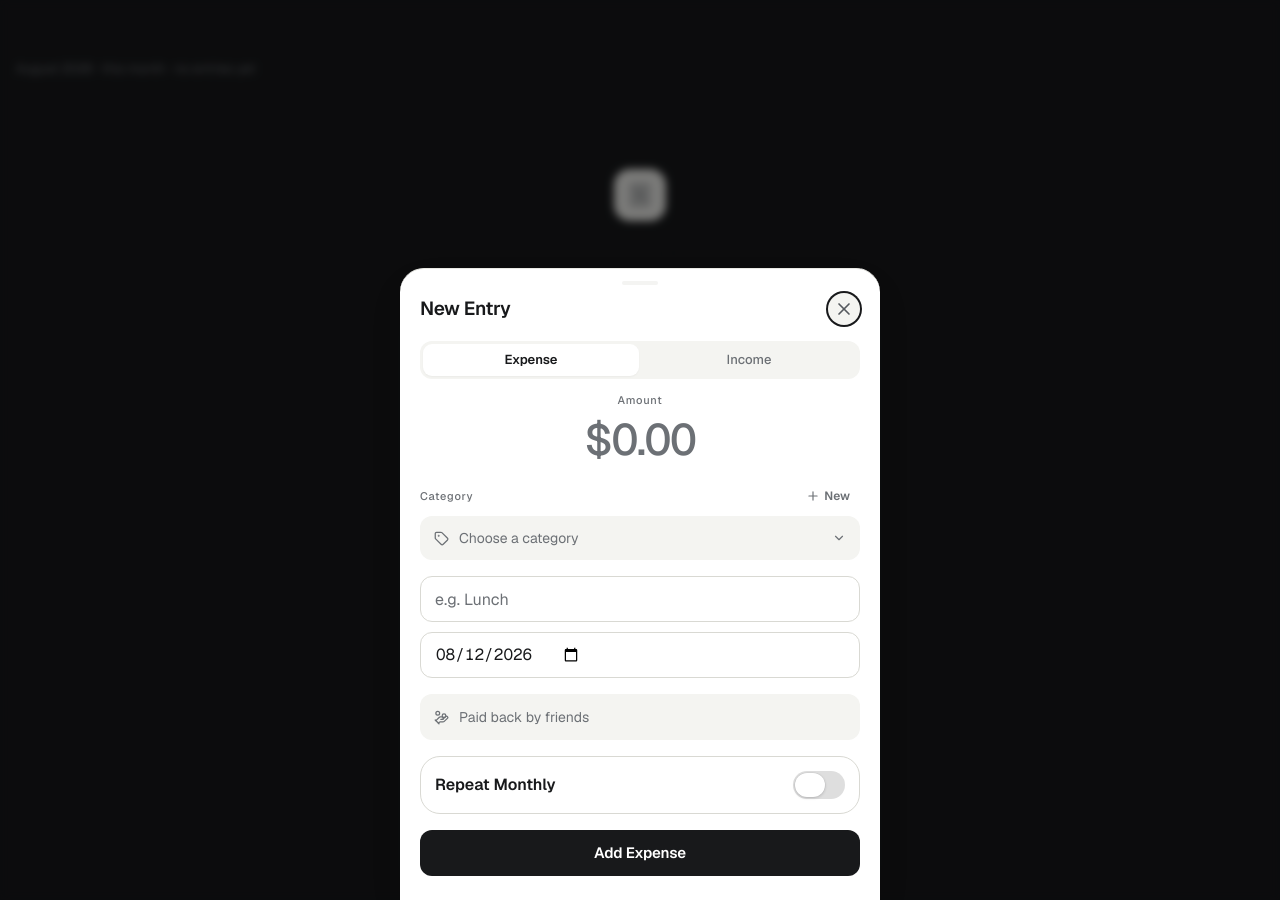
Test: adding a category › when there are more categories than the grid can hold › collapses to a field and a list at thirteen
Expected: the button "Category 13" is not shown
Click the button "Choose a category" at (519, 538), box [420, 516, 860, 560]
(page scrolled)
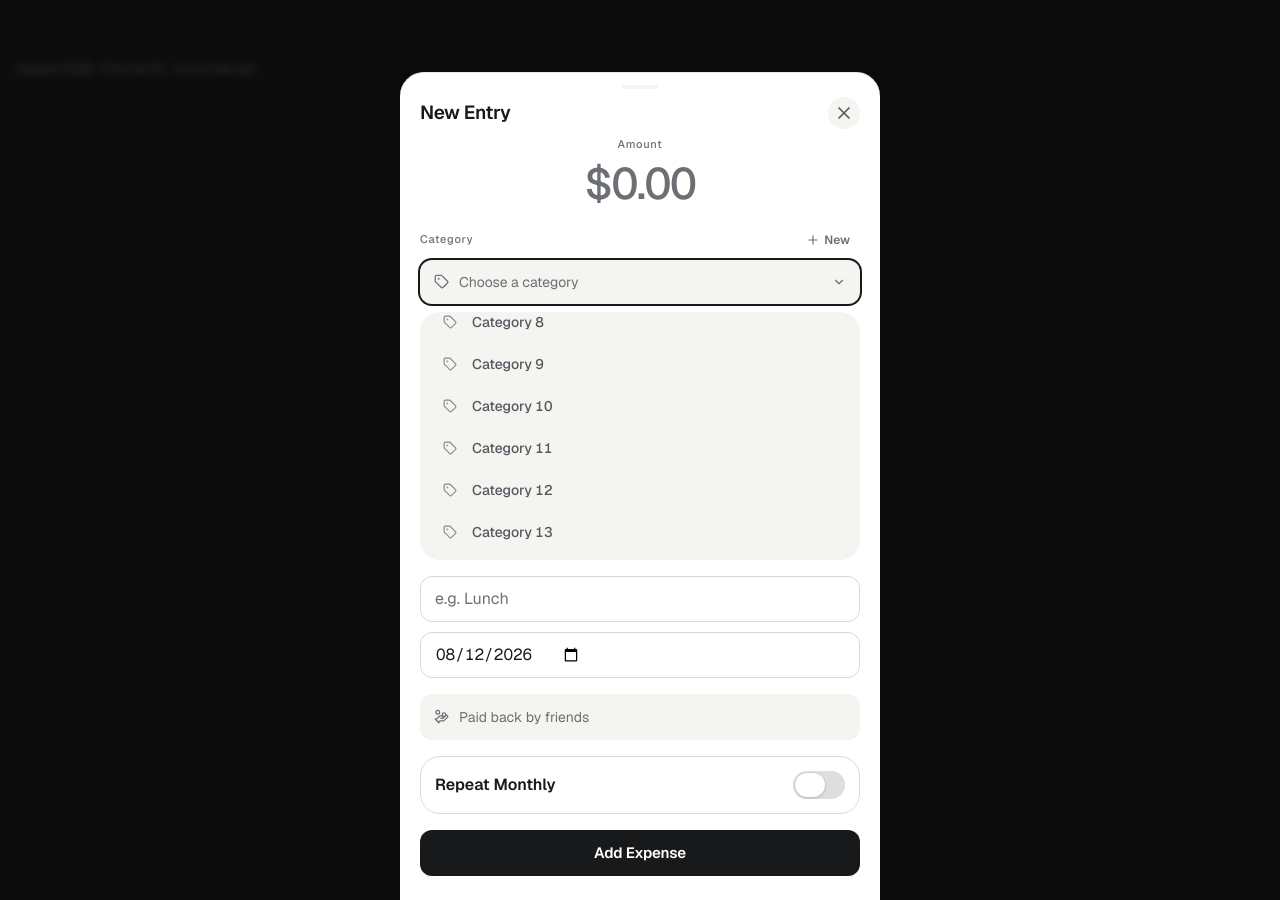
Click the button "Category 13" at (512, 532), box [428, 512, 852, 552]
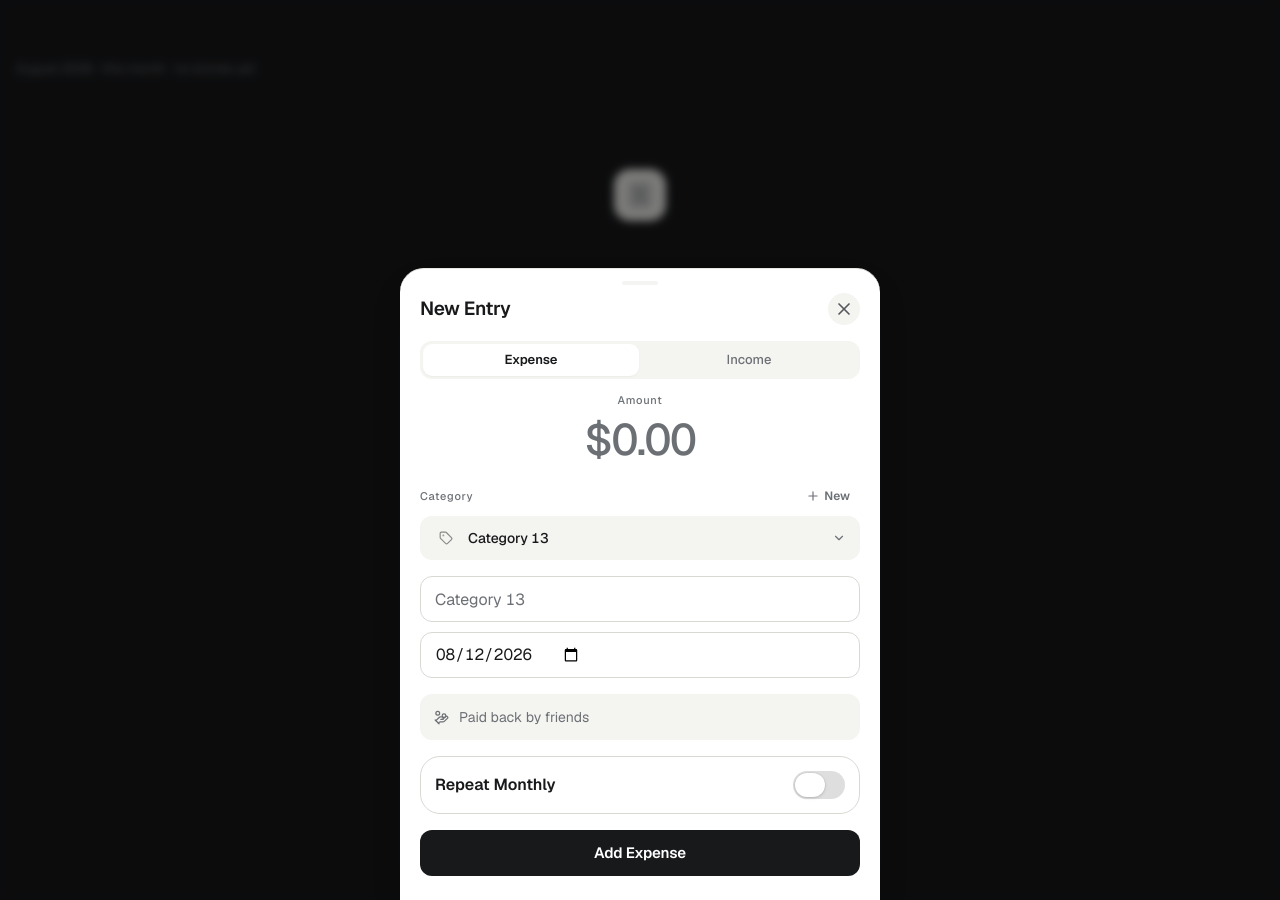
Expected: the button "Category 13" is shown, [420, 516, 860, 560]
Expected: the button "Category 12" is gone
